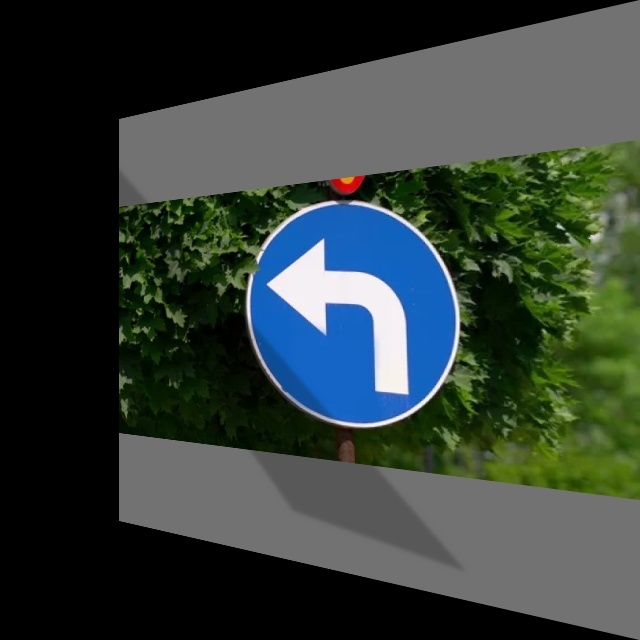Compulsory_Turn_Left_Ahead: (245, 187, 458, 433)
